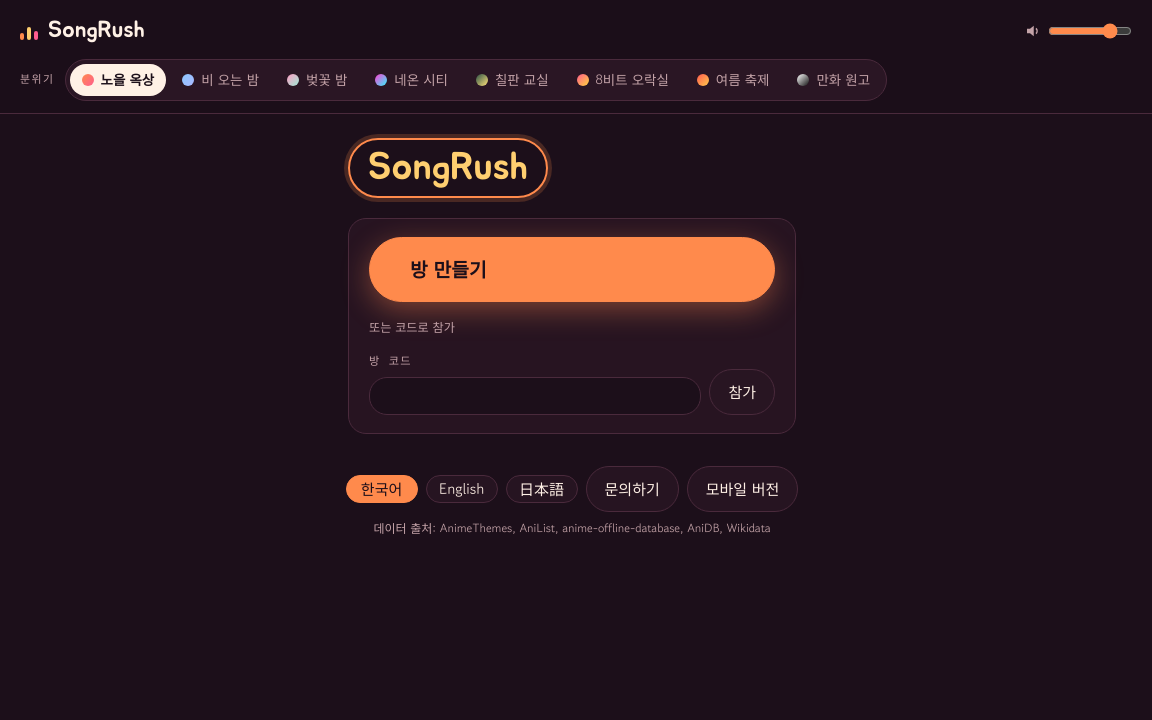
Test: the create dialog › 방 만들기 opens a modal dialog titled 닉네임 / 방 만들기 with the nickname input focused, 확인 and 취소
The image size is (1152, 720).
Click the button "방 만들기".
click(448, 269)  # box [369,237,775,302]
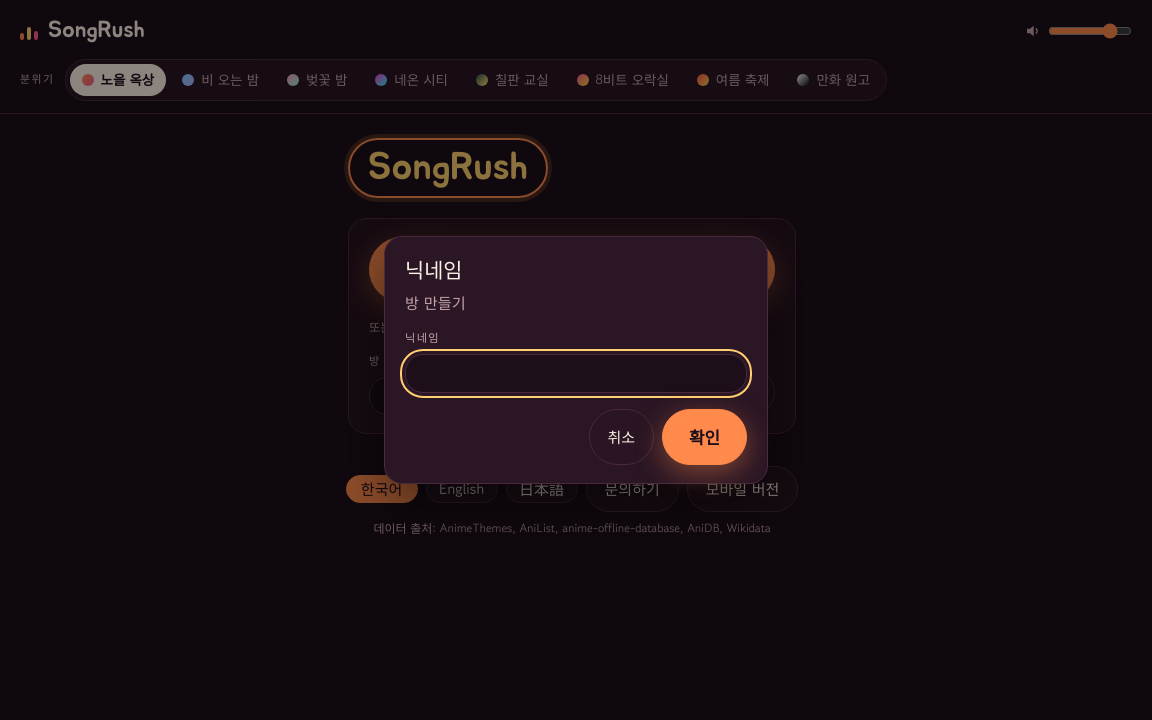
Result: the button "확인" is shown at [662,409,747,466]
